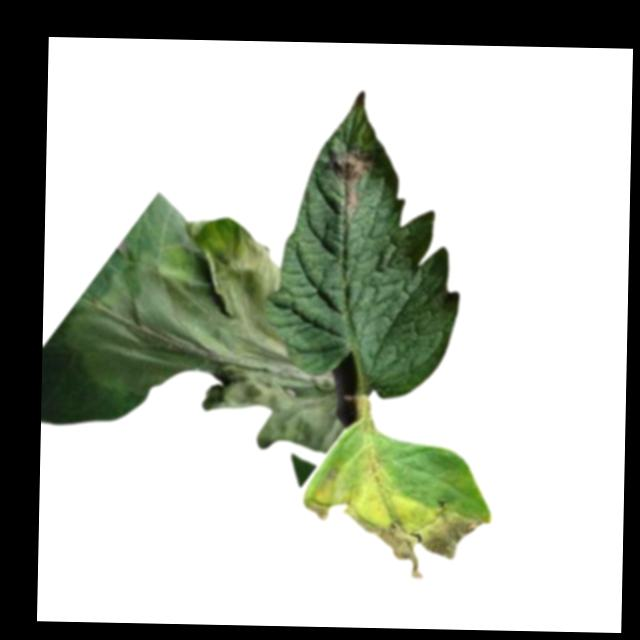Late_blight: (58, 223, 338, 446), (311, 447, 485, 580), (328, 143, 369, 216)
